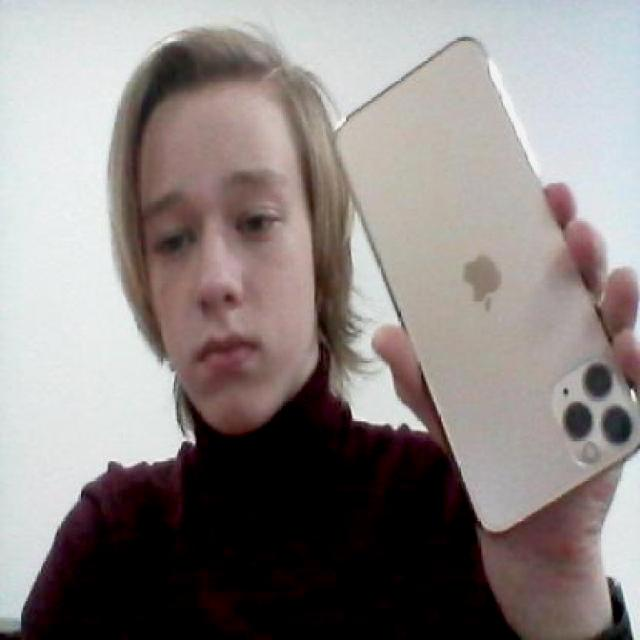phone: (323, 37, 639, 545)
